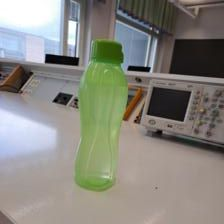bottle: (69, 38, 131, 192)
